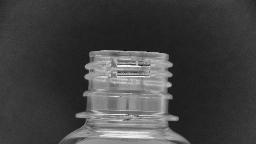No Cap: (69, 46, 185, 126)
